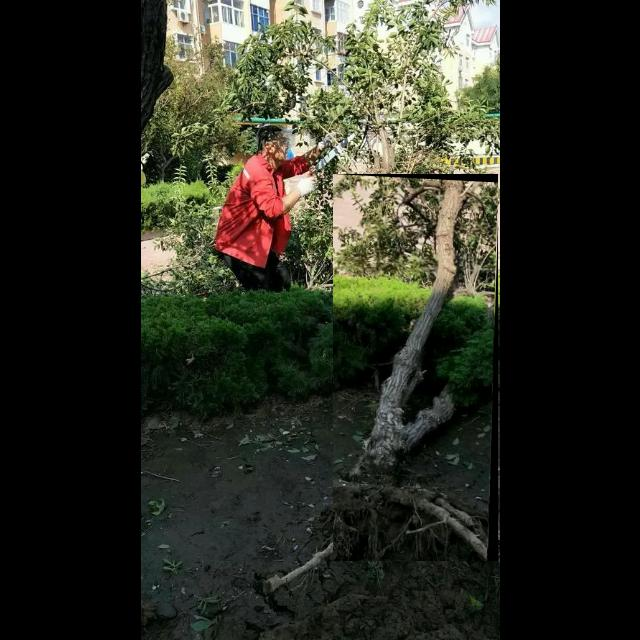Fallen Tree: (333, 174, 499, 562)
